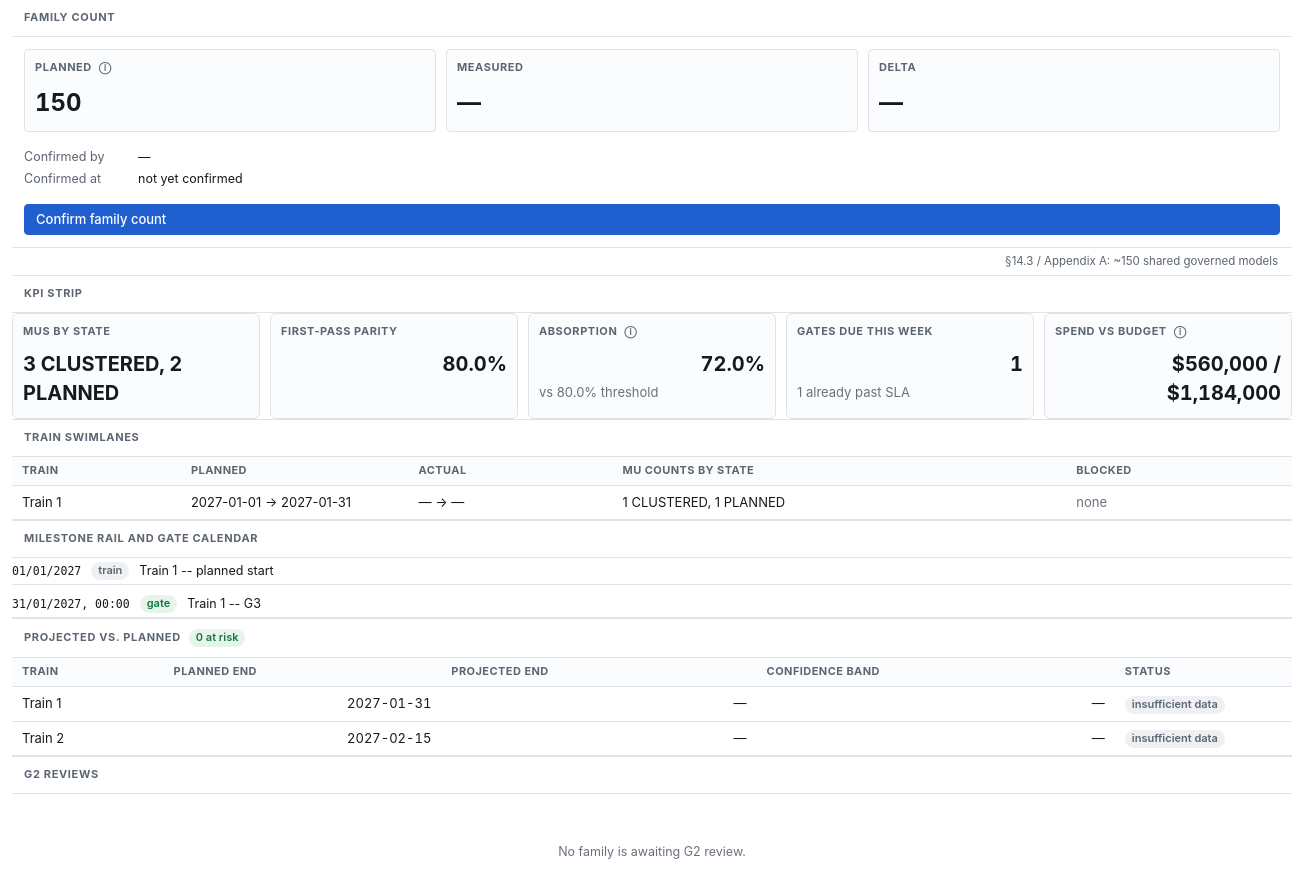
Scenario: confirm family count › shows the API refusal rather than a generic failure
Click the button "Confirm family count": (101, 219) top-left (24, 204), bottom-right (1280, 235)
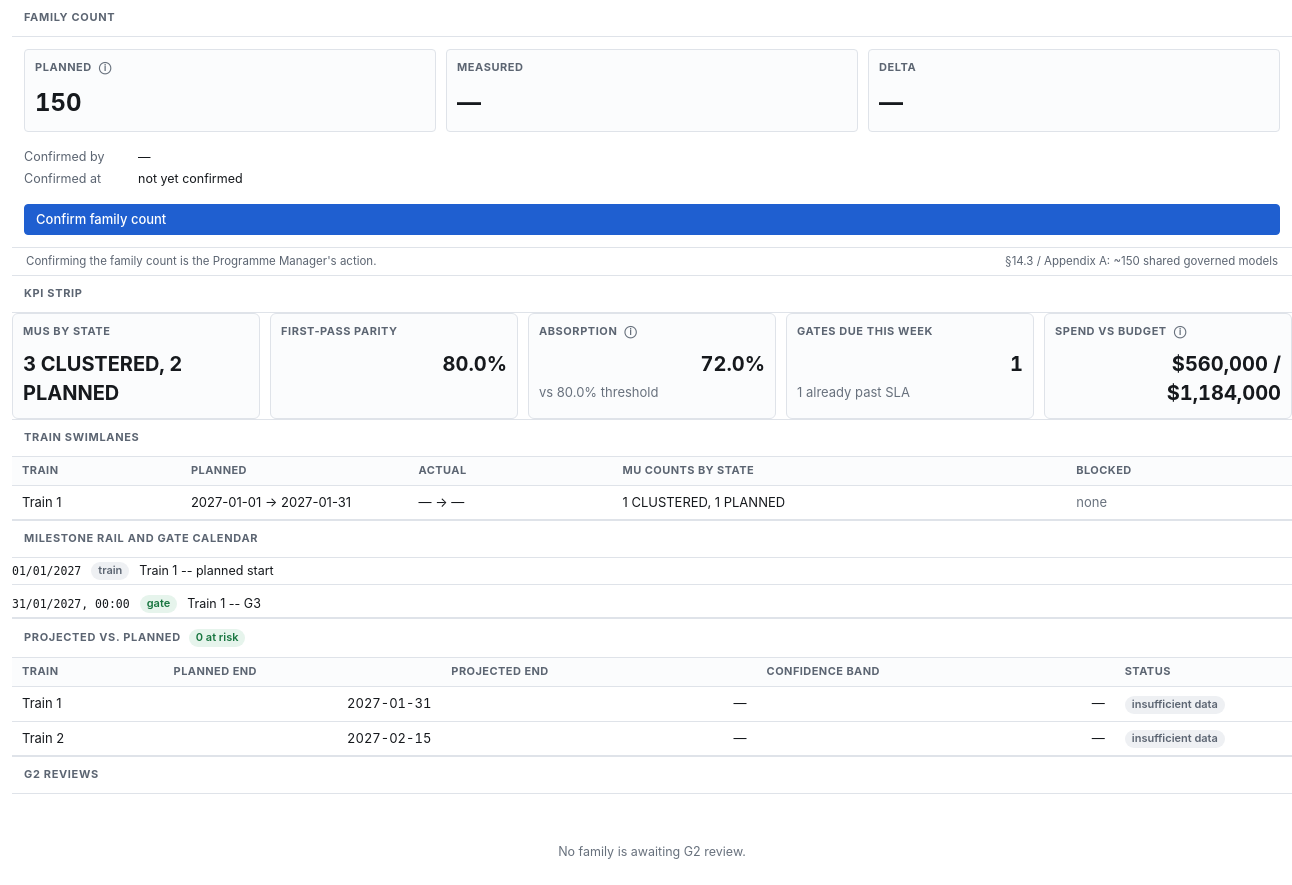
Expected: the text "Confirming the family count is the Programme Manager" is shown, top-left (26, 254), bottom-right (376, 268)
